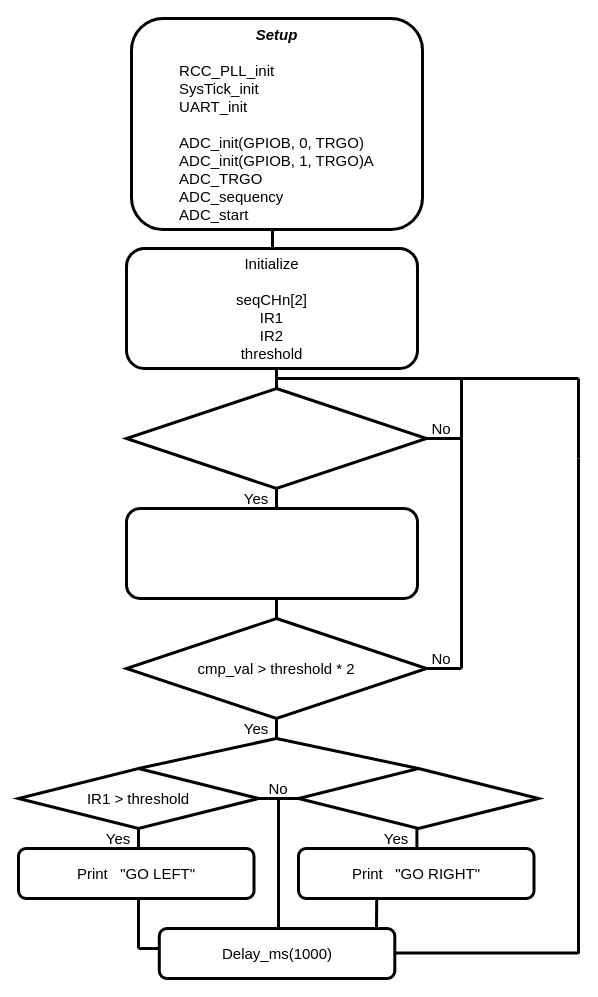
This 598x997 diagram has some shape labels left out. Each missing label, with the centre of its shape:
cmp_val = fabs(IR1-IR2) Print IR1 Print IR2: the point at 271,553
IR1 != 0 && IR2 != 0: the point at 276,438
IR2 > threshold: the point at 418,798
